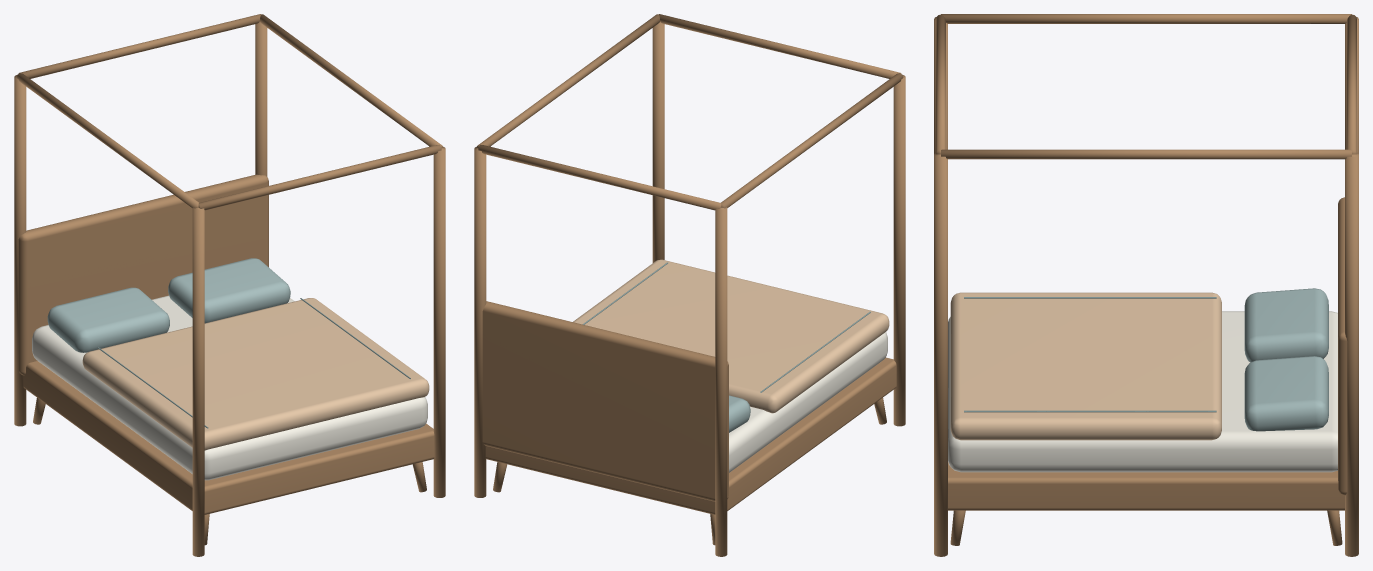
The model's file is atelier-four-poster-bed.glb.
3 views of the same model, side by side, from view 1: azimuth 30°, elevation 25°; view 2: azimuth 150°, elevation 25°; view 3: azimuth 270°, elevation 25° (orthographic). The views are drawn at different scales.
Visible parts, largest first — view 1: legs.034, bedding.011, ceramic.011, fabric.037; view 2: legs.034, bedding.011, ceramic.011, fabric.037; view 3: legs.034, bedding.011, ceramic.011, fabric.037, seams.036.
Part boxes in pixels (x1,y1,x2,y2): legs.034: (14,14,445,556); bedding.011: (82,298,429,450); ceramic.011: (32,295,427,480); fabric.037: (47,258,290,352); legs.034: (474,14,905,556); bedding.011: (573,259,889,413); ceramic.011: (729,332,887,472); fabric.037: (729,395,750,432); legs.034: (934,14,1358,556); bedding.011: (950,292,1221,440); ceramic.011: (948,311,1337,472); fabric.037: (1244,288,1328,431); seams.036: (964,297,1216,412).
Bounding box in the file's own units: 1.67 × 2.23 × 2.12.
